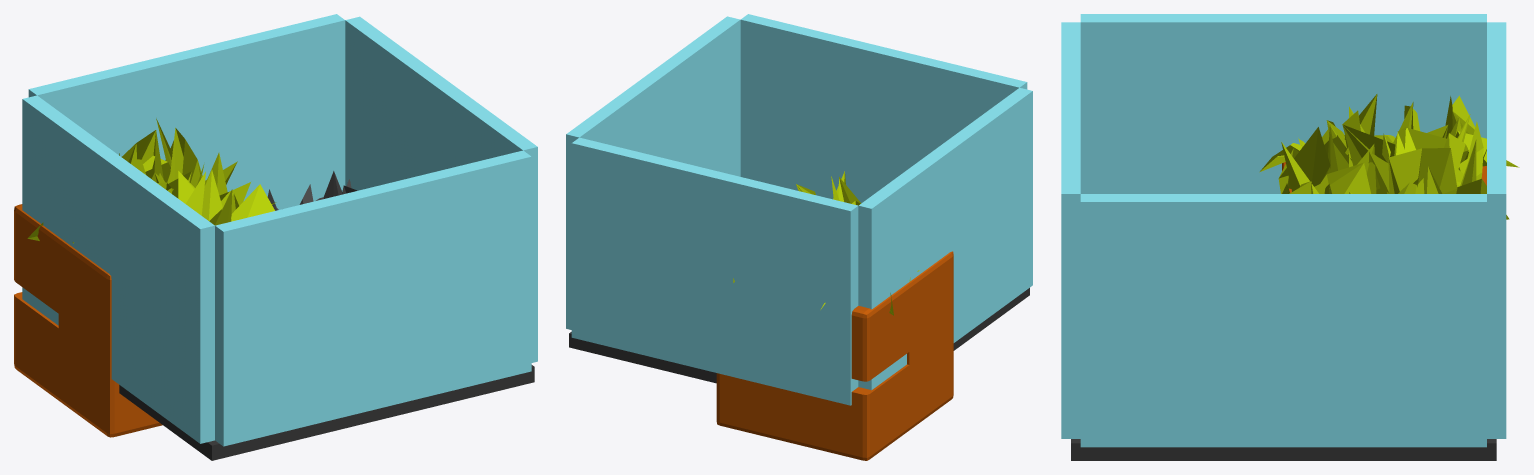
The model's file is coolmap.obj.
3 views of the same model, side by side, from view 1: azimuth 30°, elevation 25°; view 2: azimuth 150°, elevation 25°; view 3: azimuth 270°, elevation 25° (orthographic). The views are drawn at different scales.
Parts seen in each view (by area): view 1: Куб.003, Куб.019, Плоскость.005, Куб.004, Плоскость.003; view 2: Куб.003, Куб.019, Куб.004, Плоскость.005; view 3: Куб.003, Плоскость.005, Куб.004.
Boxes of the visible parts, x1,y1,x2,y2 form: Куб.003: (22,14,537,446); Куб.019: (14,204,162,437); Плоскость.005: (27,118,276,243); Куб.004: (119,365,534,460); Плоскость.003: (267,171,356,210); Куб.003: (566,14,1032,405); Куб.019: (716,251,953,460); Куб.004: (569,288,1029,383); Плоскость.005: (733,171,919,315); Куб.003: (1061,14,1506,447); Плоскость.005: (1259,94,1519,219); Куб.004: (1071,439,1496,460).
Size of the model in its own units: 47.36 by 35.79 by 47.39.
